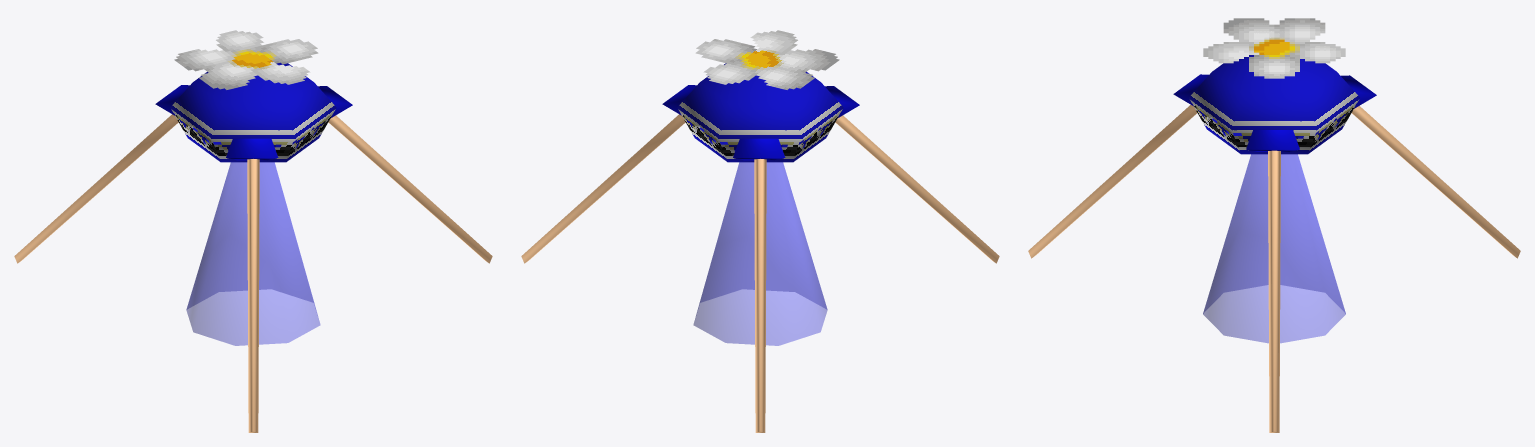
The model's file is blueonion.fbx.
3 views of the same model, side by side, from view 1: azimuth 30°, elevation 25°; view 2: azimuth 150°, elevation 25°; view 3: azimuth 270°, elevation 25° (orthographic). The views are drawn at different scales.
Visible parts, largest first — view 1: BlueOnion; view 2: BlueOnion; view 3: BlueOnion.
Part boxes in pixels (bbox=[...]): BlueOnion: bbox=[14, 30, 492, 432]; BlueOnion: bbox=[521, 30, 999, 432]; BlueOnion: bbox=[1028, 18, 1520, 432].
Size of the model in its own units: 21.2 by 14.61 by 24.42.
Materials: 5 (2 with a texture image).
